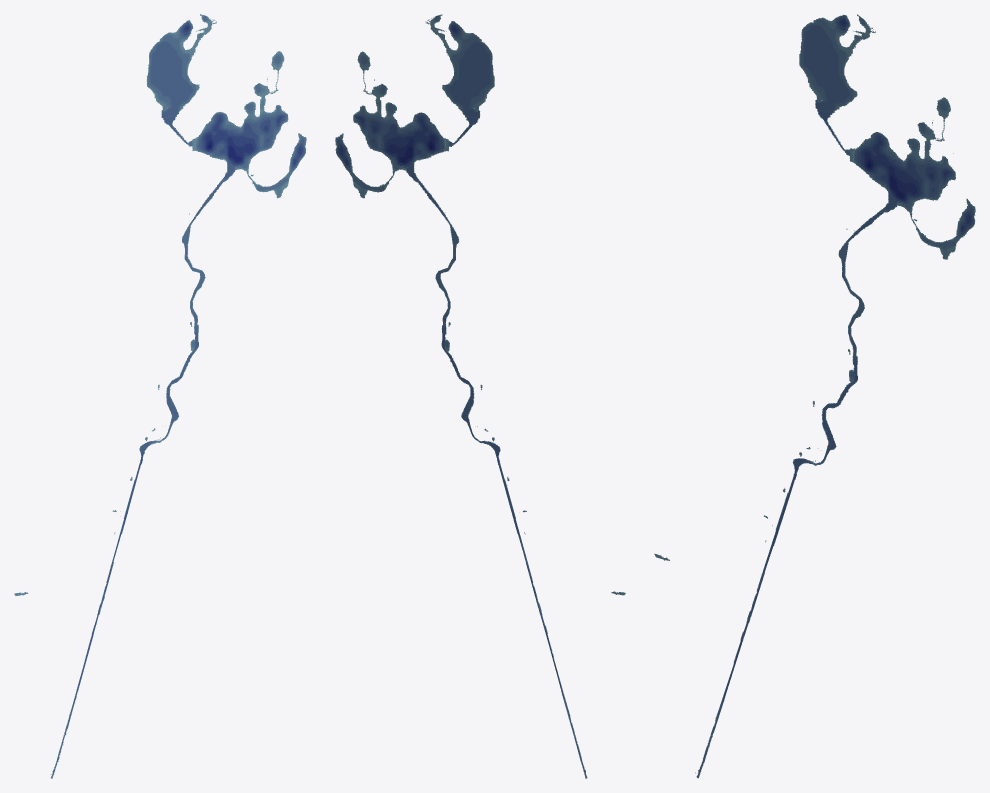
File: triangle_mesh.glb
3 views of the same model, side by side, from view 1: azimuth 30°, elevation 25°; view 2: azimuth 150°, elevation 25°; view 3: azimuth 330°, elevation 25° (orthographic). The views are drawn at different scales.
Visible parts, largest first — view 1: world; view 2: world; view 3: world.
Part boxes in pixels (x1=…): world: x1=14, y1=14, x2=306, y2=778; world: x1=335, y1=14, x2=625, y2=778; world: x1=654, y1=14, x2=975, y2=778.
Size of the model in its own units: 1147 by 2739 by 13.93.
